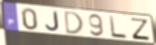0: (21, 7, 40, 31)
9: (88, 13, 105, 37)
D: (63, 10, 85, 35)
J: (45, 11, 61, 33)
L: (108, 14, 129, 40)
Z: (130, 17, 152, 42)
